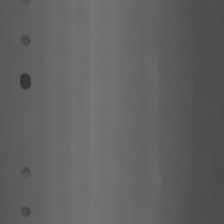oil_spot: (17, 72, 32, 92), (19, 161, 31, 181), (18, 203, 32, 218), (18, 34, 31, 47)
